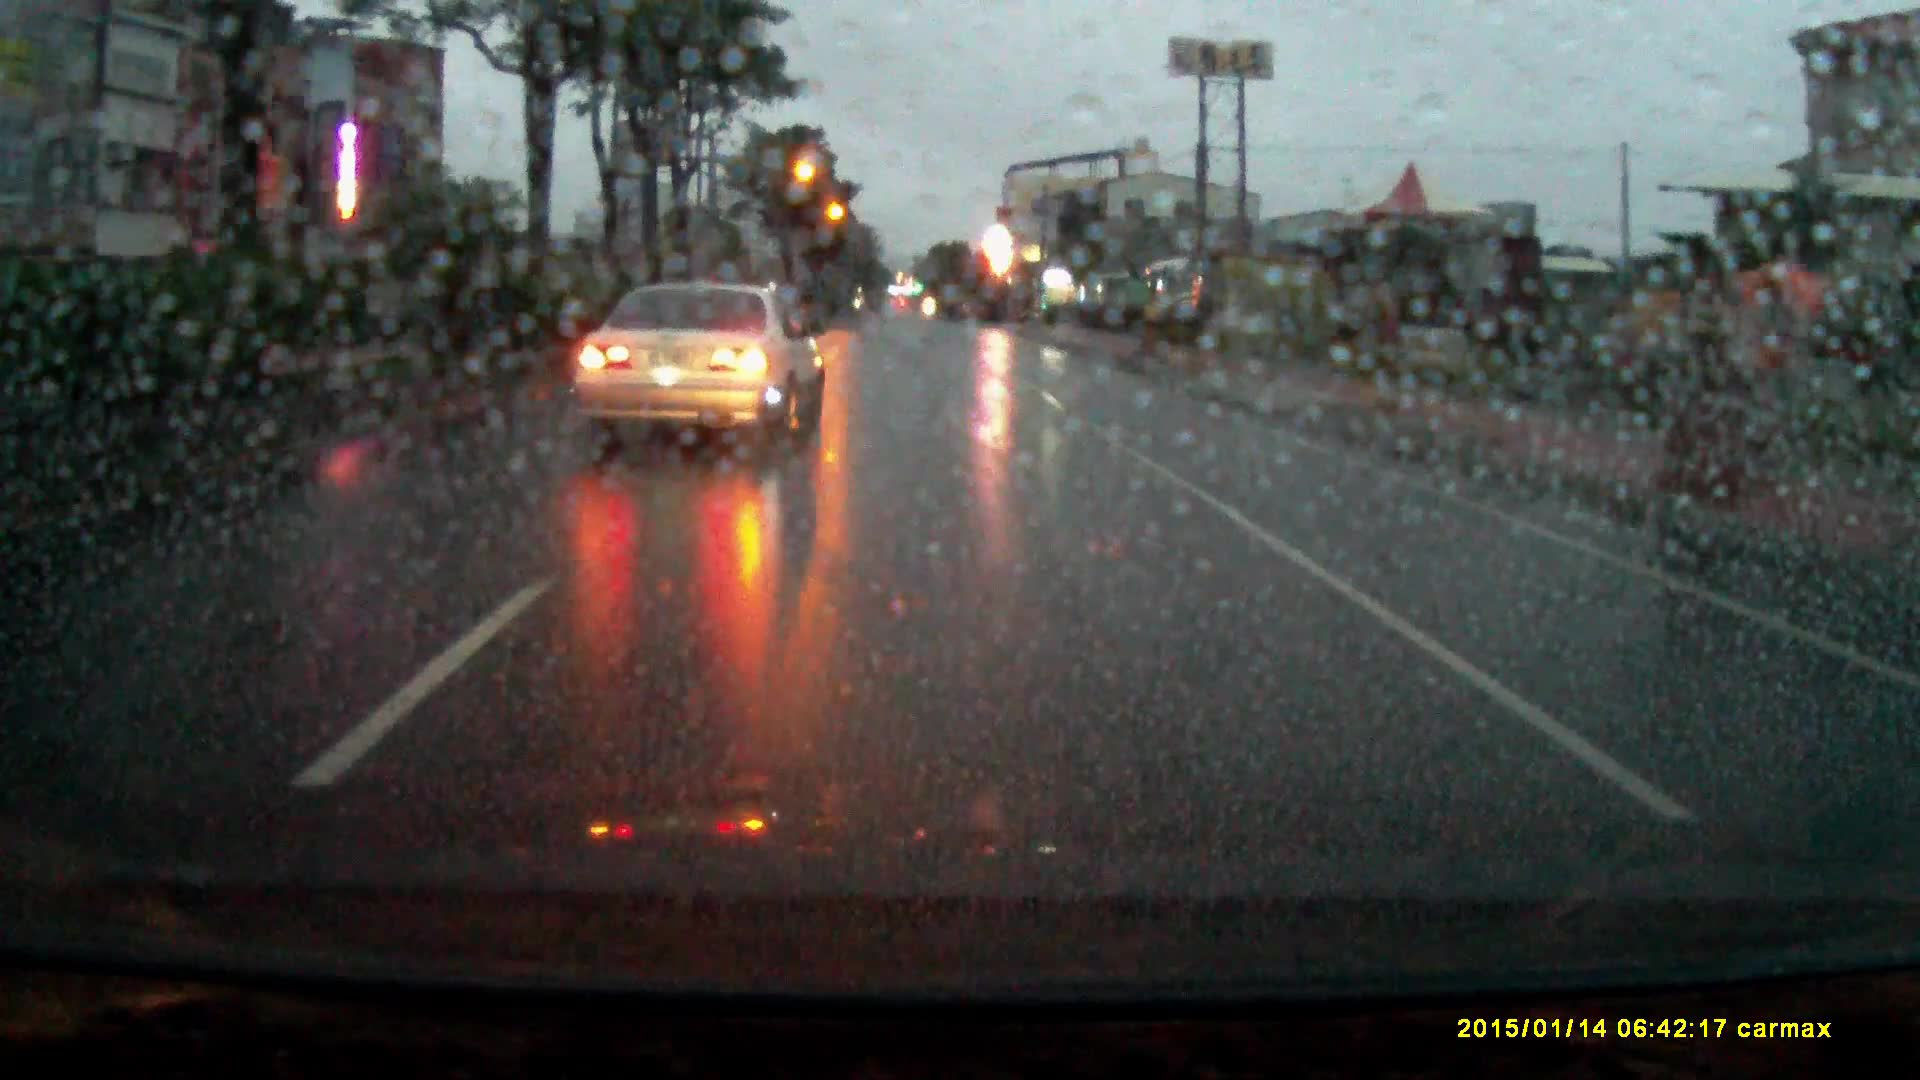pedestrian: (1729, 262, 1833, 507)
vehicle: (566, 287, 830, 463), (1087, 276, 1138, 316)
